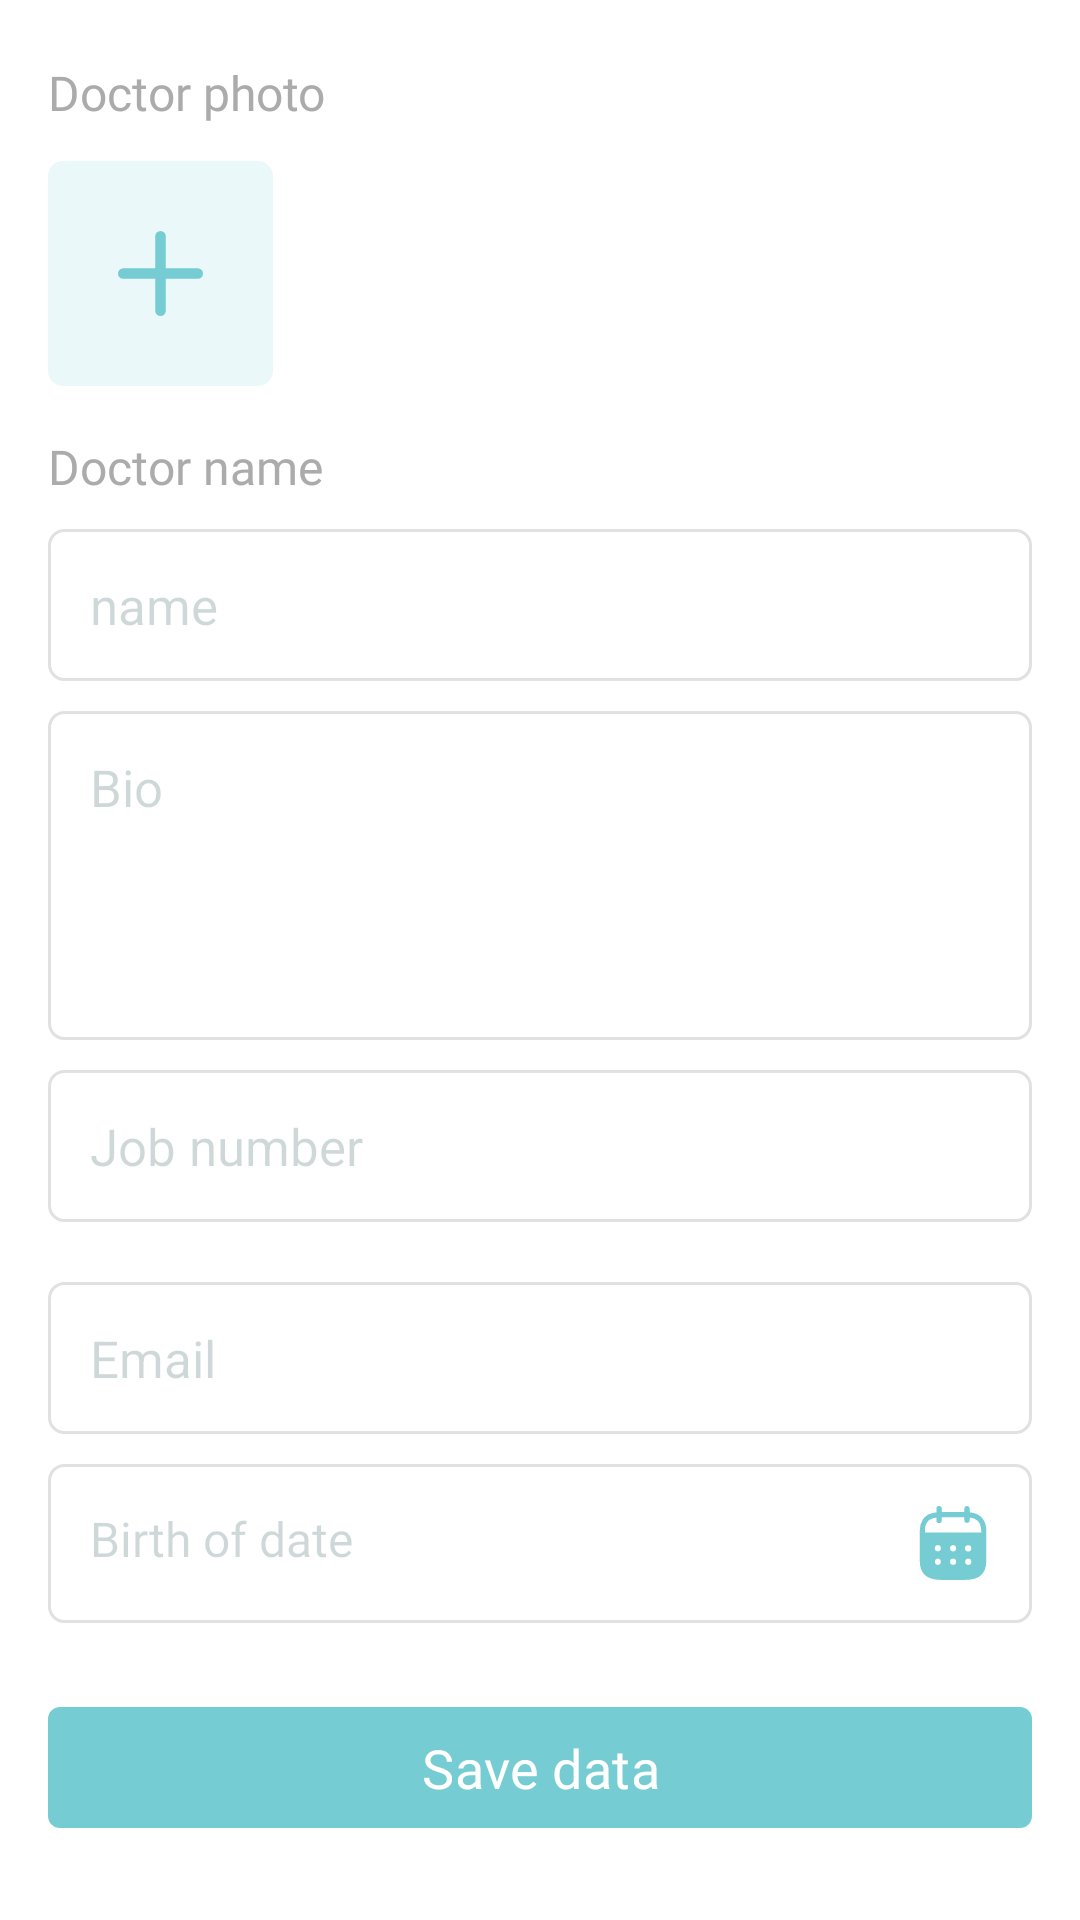

Named icons in this screenshot (1080w x 1920h) and their bounding boxes, [x1=x1, y1=y1, x2=x2, y2=y2]:
add: [x1=48, y1=161, x2=273, y2=386]
